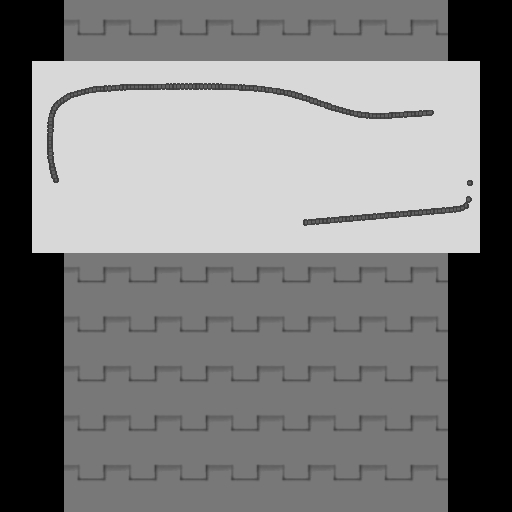Defect: (51, 179, 302, 229)
